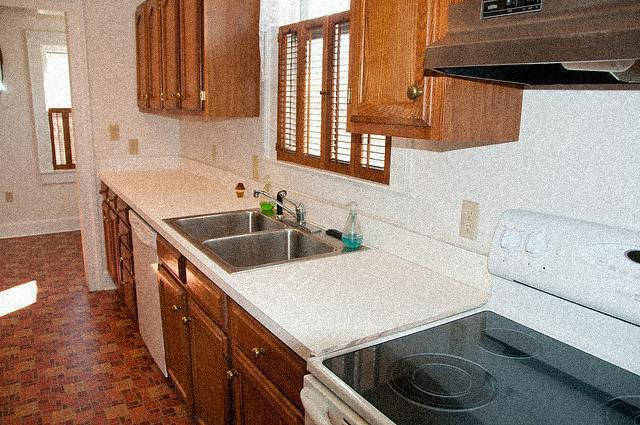Lavaplatos: (158, 187, 361, 283)
